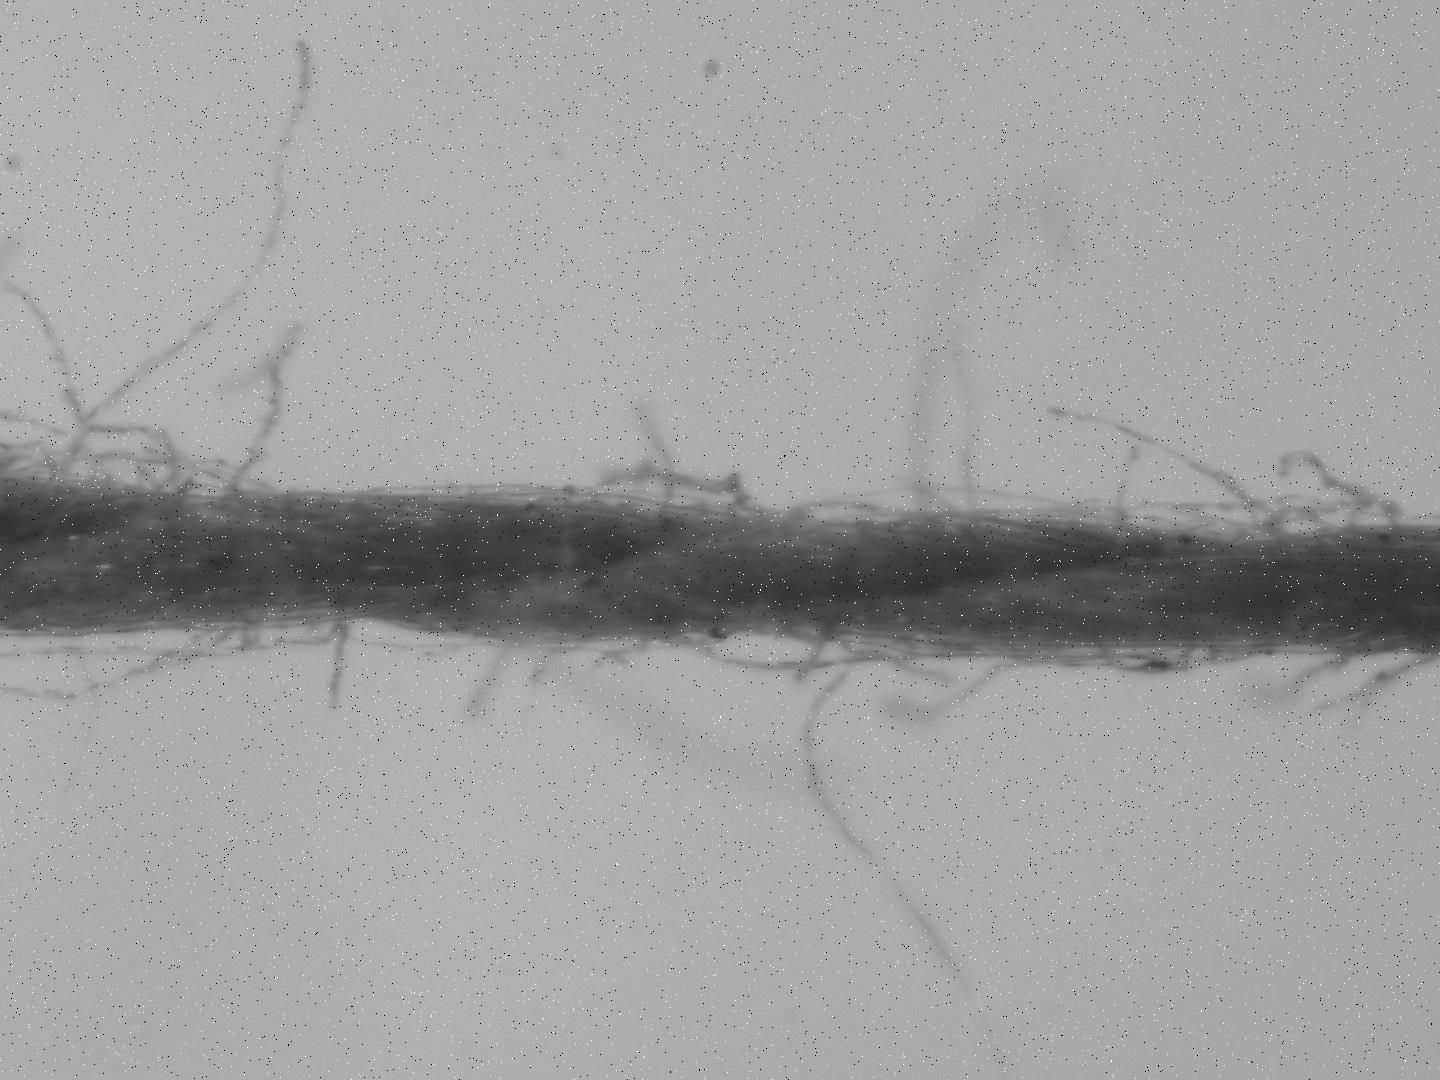protruding_fiber: (53, 33, 321, 482), (796, 648, 1016, 1080), (1035, 398, 1295, 543)
